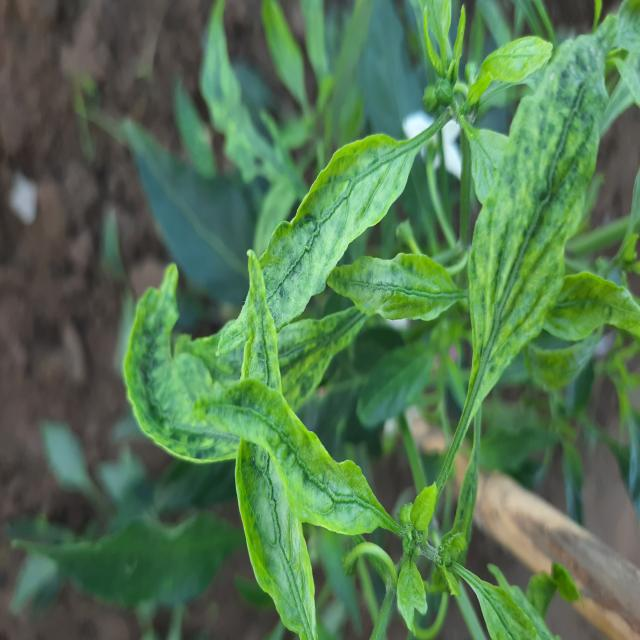thrips: (203, 111, 419, 346), (192, 374, 390, 553)
